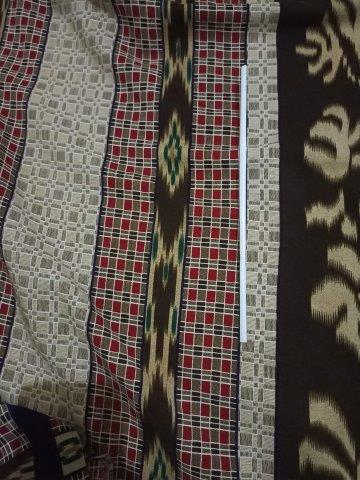sedotan: (239, 65, 247, 343)
